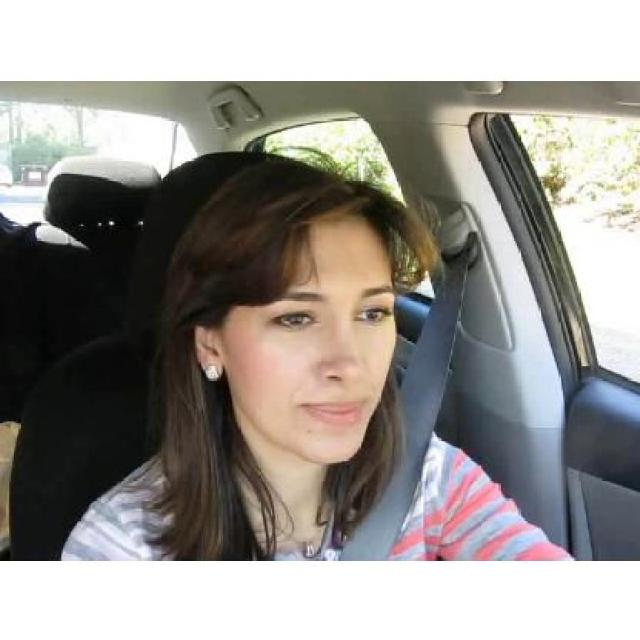attentif: (195, 161, 398, 464)
